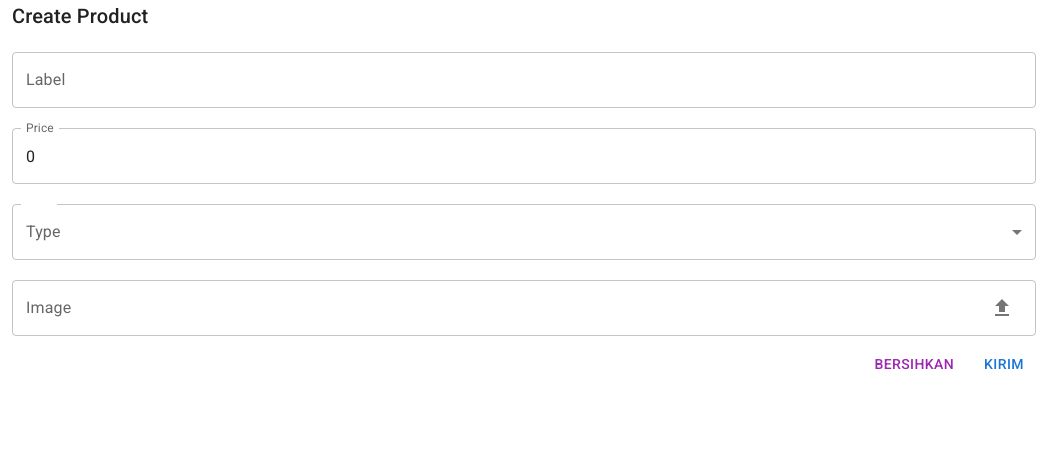
Test: CreateProduct Page › submit form with valid payloads
What coordinates should you click on to do the following:
click the button "Kirim"
I would click on:
 (1004, 364)
Its box is x1=972 y1=346 x2=1036 y2=382.
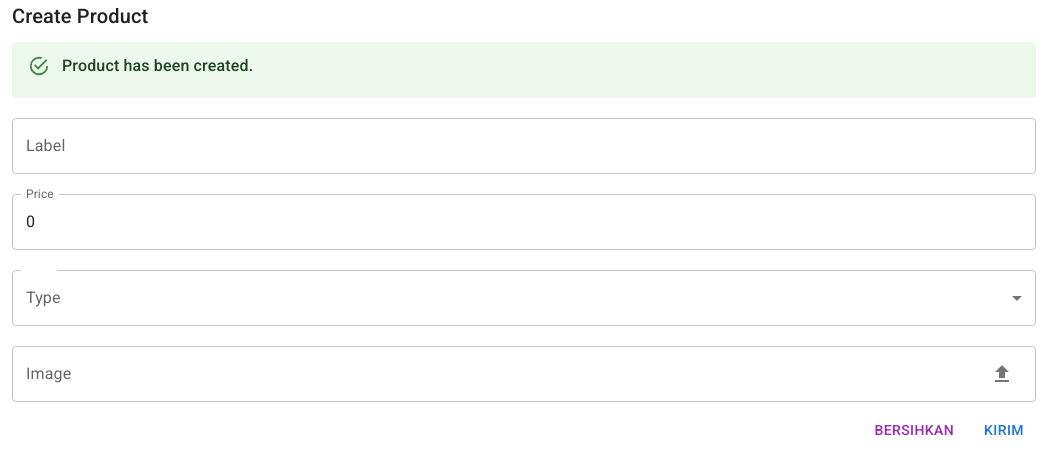
Result: the text "Product has been created." is shown at x1=62 y1=54 x2=253 y2=78
